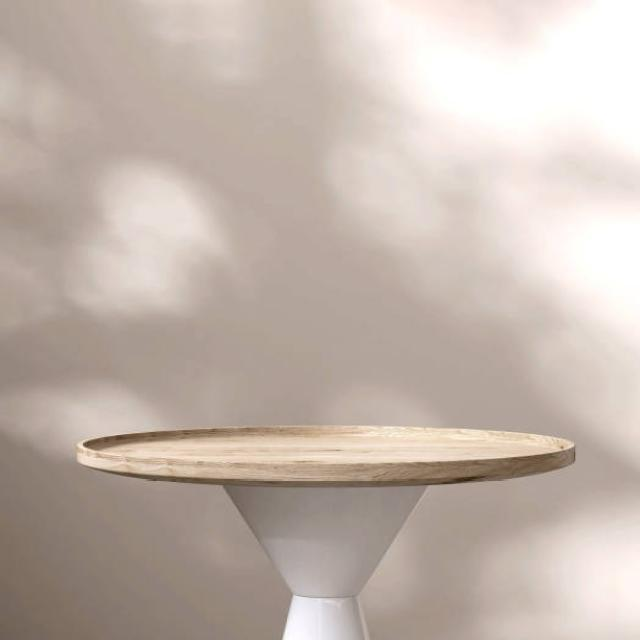table: (74, 423, 576, 639)
